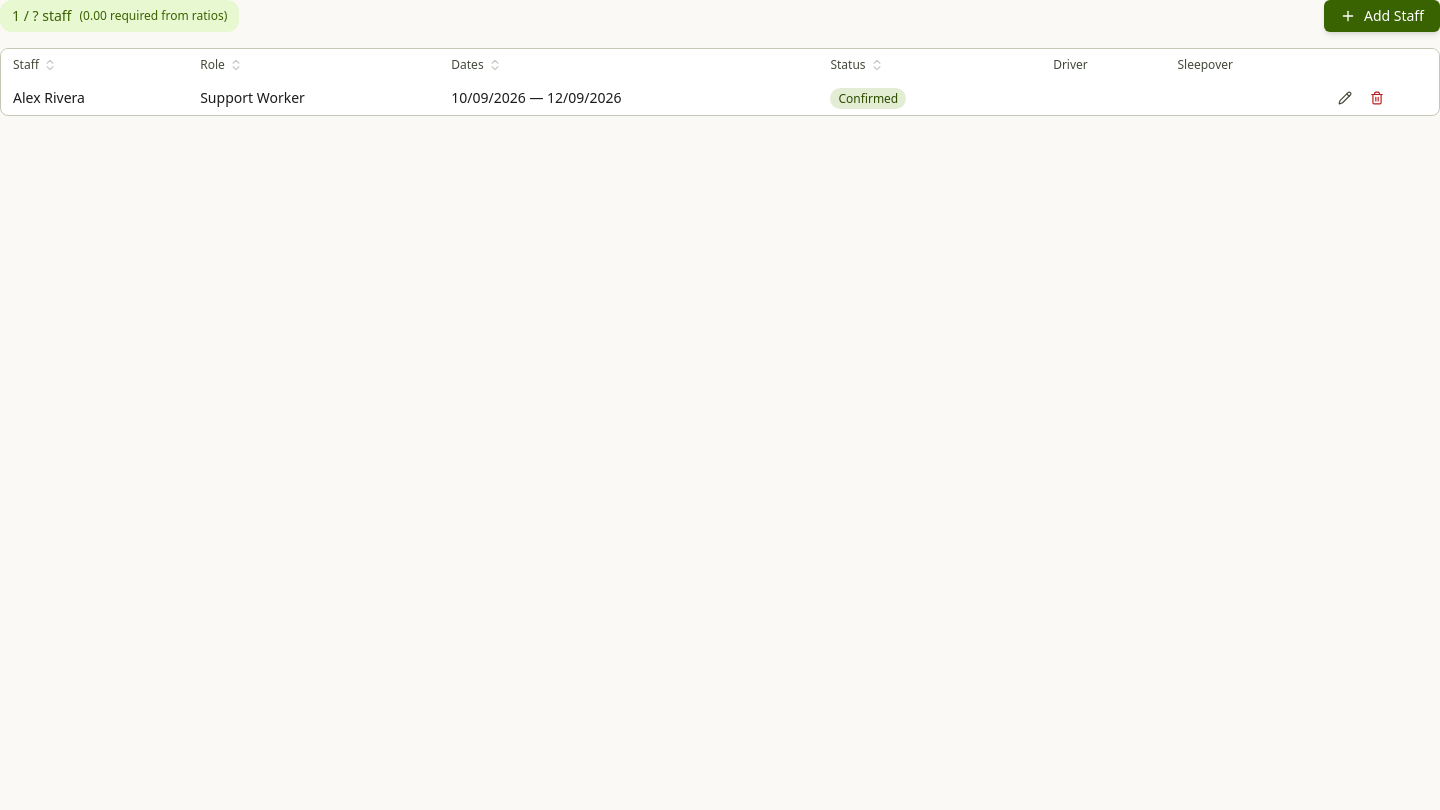
Test: StaffTab — edit modal live conflict gate (trip-side parity) › requires a non-empty override reason before submitting when a finding requires one
The width and height of the screenshot is (1440, 810).
Click the button titled "Edit assignment" at (1345, 98), box [1333,86,1357,110]
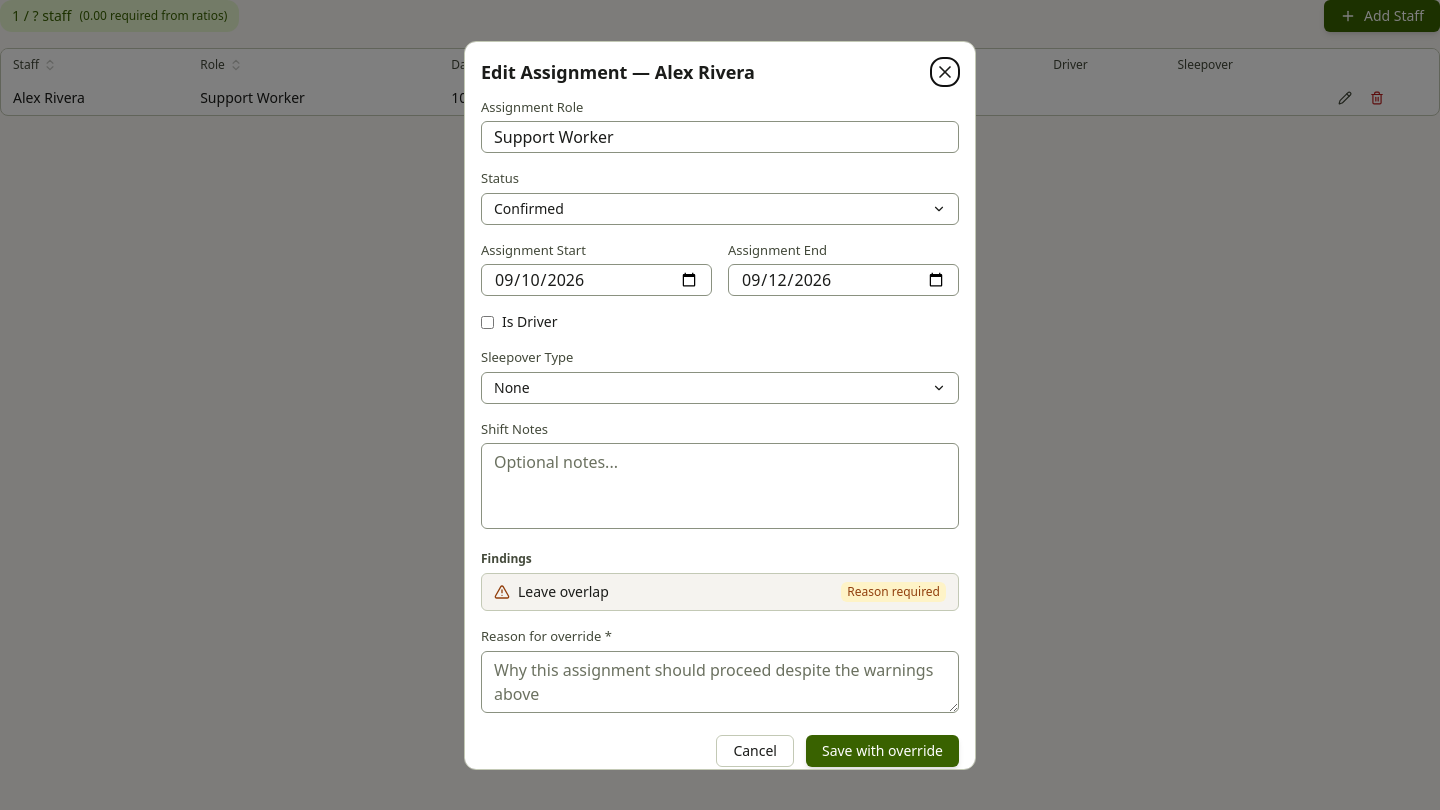
Expected: the text "a reason is required to save over the warnings marked" is not shown
Now the text "Leave overlap" is shown, box [518,582,609,602]
Click the button "Save with override" at (882, 750), box [806,734,959,766]
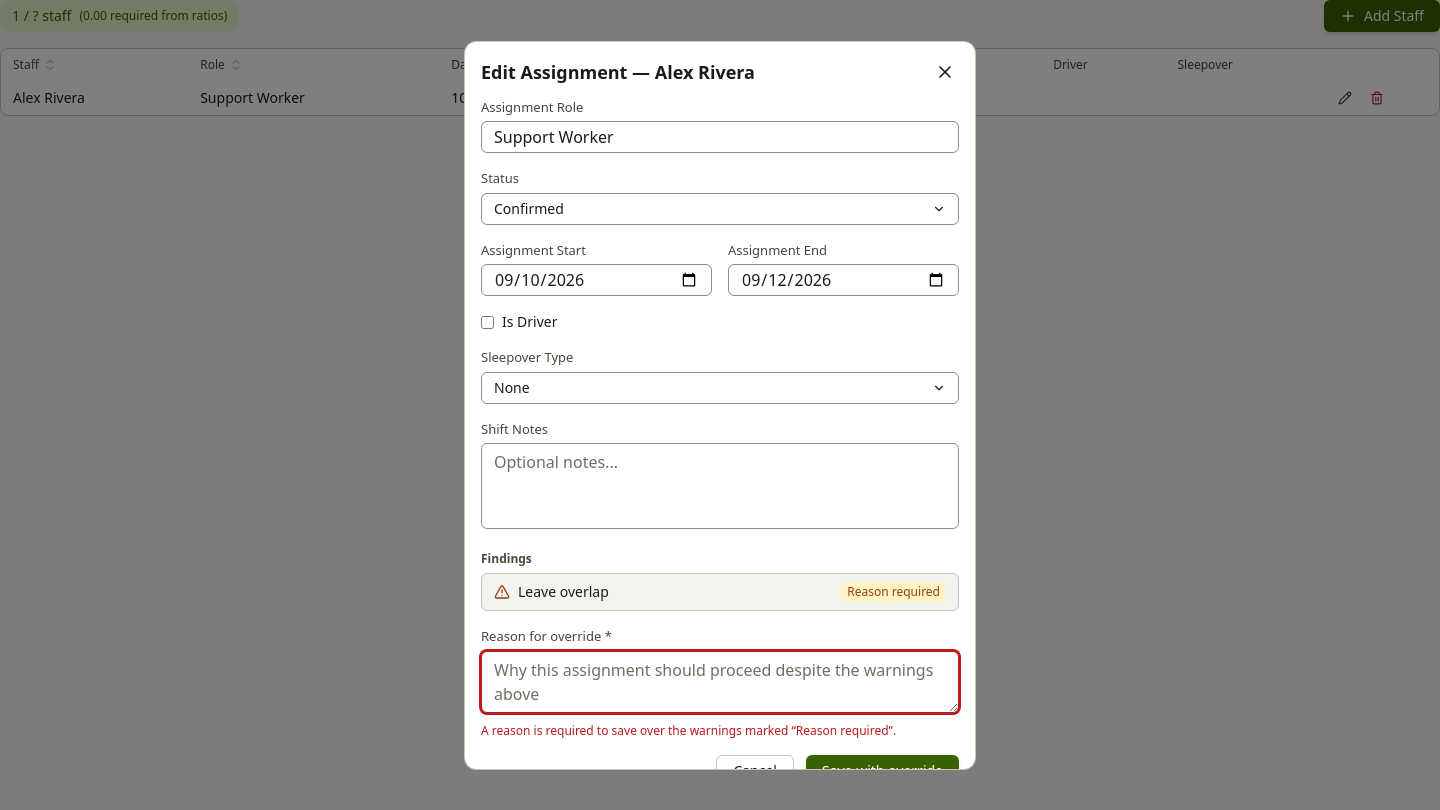
Now the text "A reason is required to save over the warnings marked “Reason required”." is shown, box [481,722,959,738]
